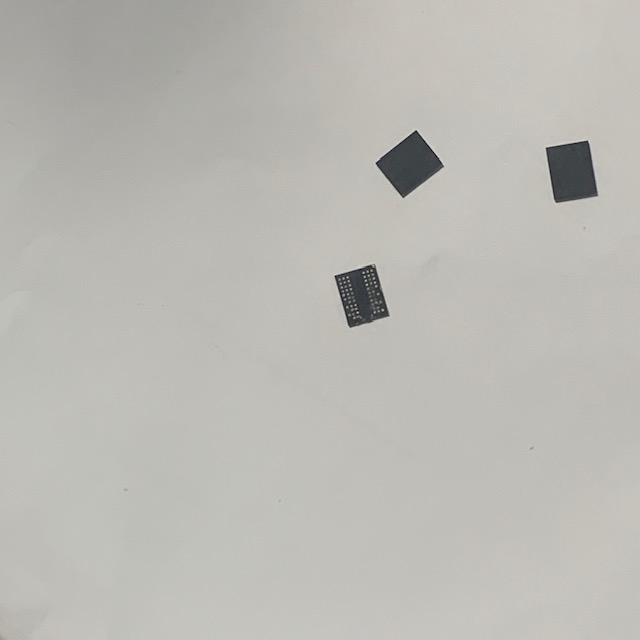IC: (372, 128, 446, 202), (331, 261, 392, 330), (544, 138, 601, 205)
